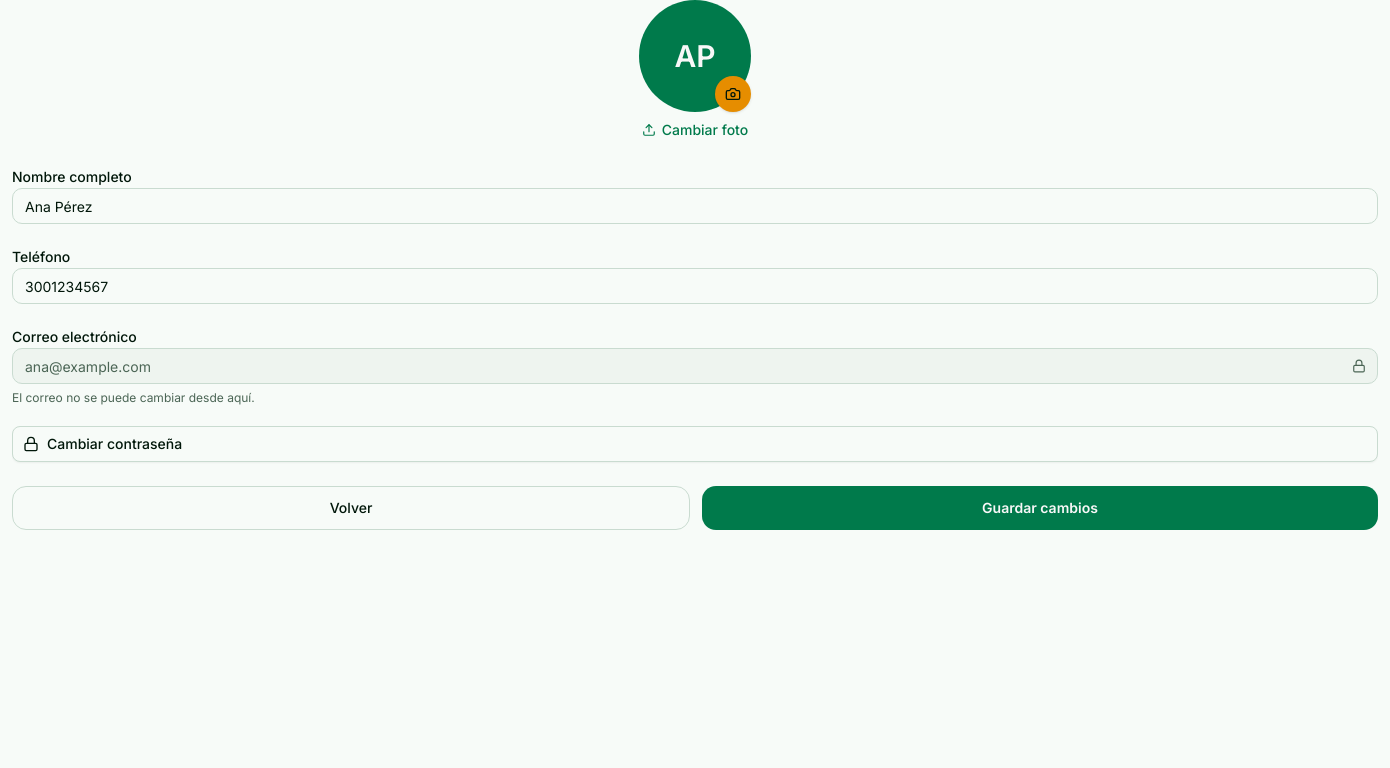
Test: EditProfileForm › shows the error message when the save fails
The image size is (1390, 768).
Click the button "Guardar cambios" at {"x": 1040, "y": 508}, box [702,486,1378,530]
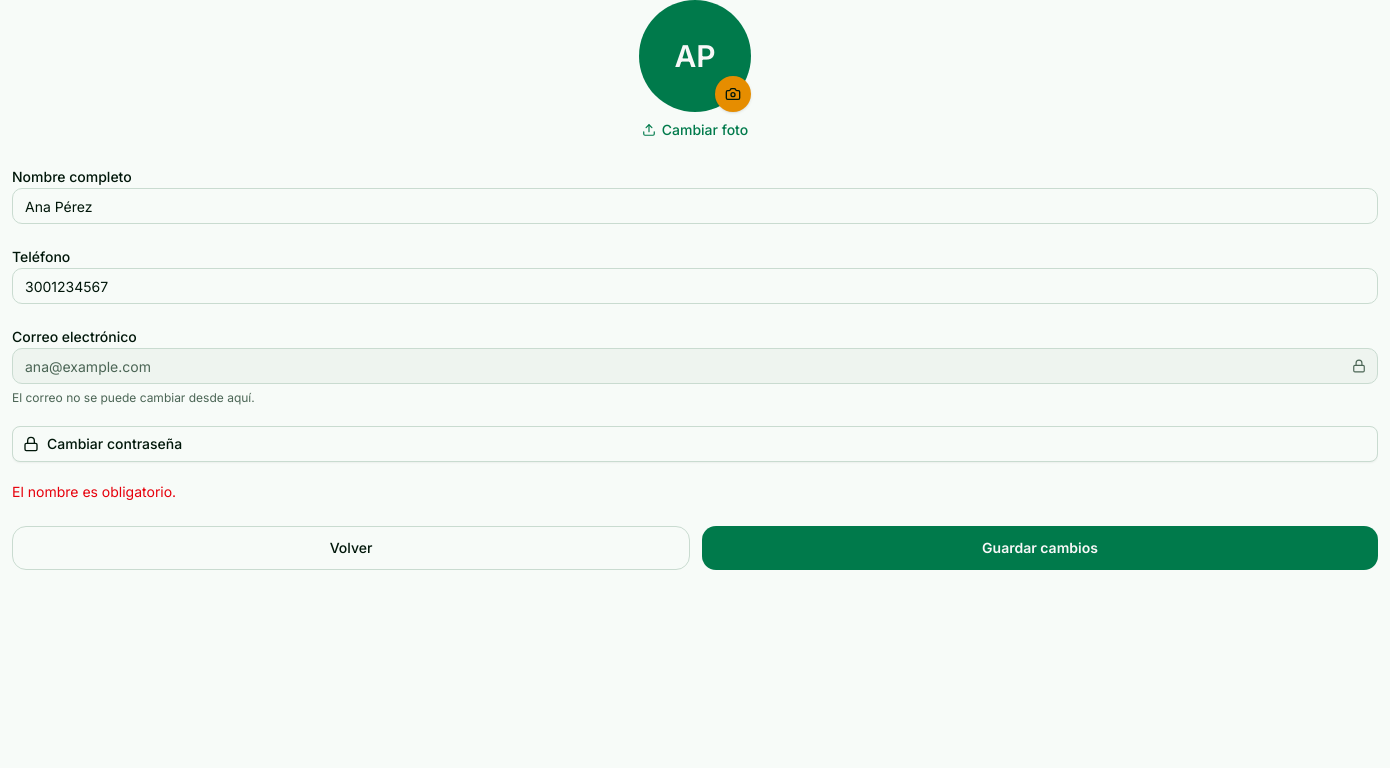
Expected: the message reads "El nombre es obligatorio.", [12,483,176,500]
